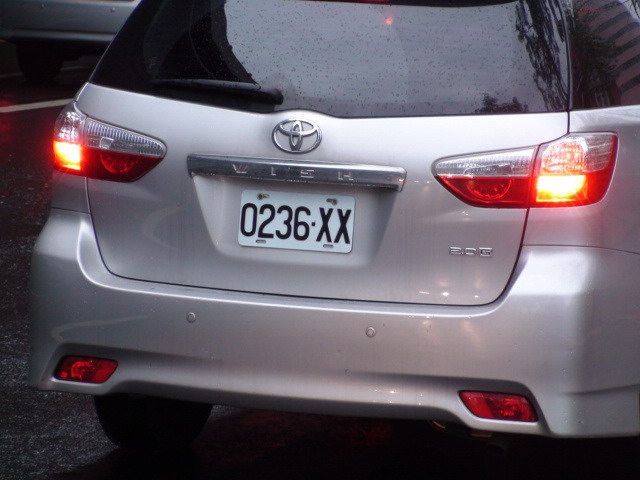plate: (235, 182, 357, 257)
